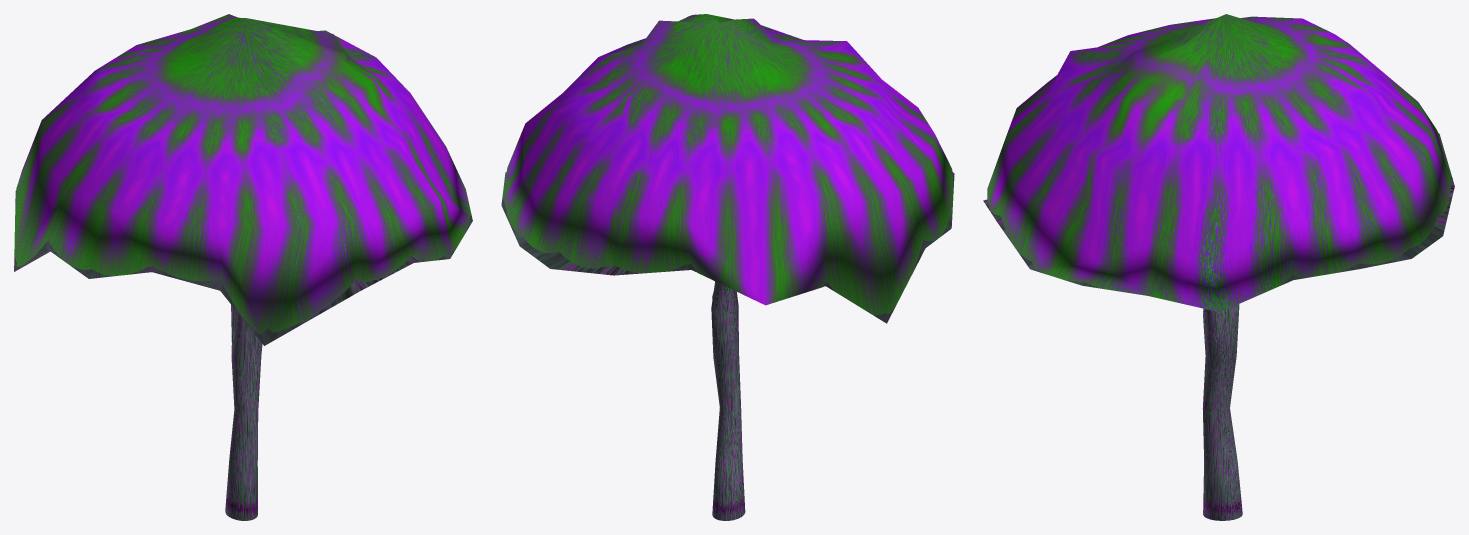
The model's file is mushroom2.fbx.
The picture shows the model from 3 angles, left to right: view 1: azimuth 30°, elevation 25°; view 2: azimuth 150°, elevation 25°; view 3: azimuth 270°, elevation 25°; orthographic projection. The views are drawn at different scales.
Parts seen in each view (by area): view 1: pCylinder2; view 2: pCylinder2; view 3: pCylinder2.
Part boxes in pixels (x1,y1,x2,y2): pCylinder2: (14,14,472,520); pCylinder2: (501,14,954,520); pCylinder2: (983,14,1454,520).
Bounding box in the file's own units: 14.82 × 17.62 × 14.94.
3 materials, 3 textured.
